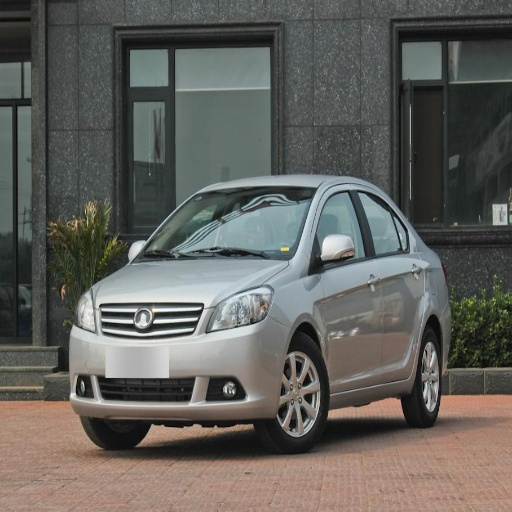front_bumper: (70, 302, 292, 421)
front_glass: (135, 189, 315, 261)
front_left_door: (310, 186, 381, 388)
